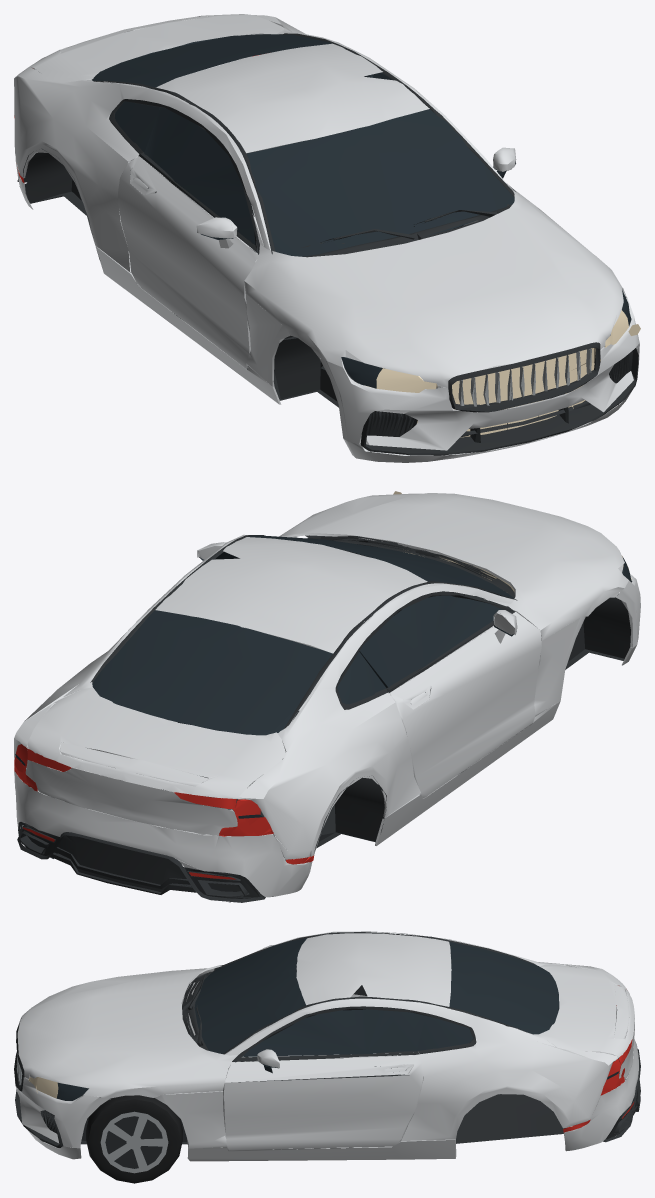
The model's file is sedan.glb.
The picture shows the model from 3 angles, top to bottom: view 1: azimuth 30°, elevation 25°; view 2: azimuth 150°, elevation 25°; view 3: azimuth 270°, elevation 25°; orthographic projection. The views are drawn at different scales.
Parts seen in each view (by area): view 1: Car body, Car glazing, Car trim, Car headlamps, Car wheel discs; view 2: Car body, Car glazing, Car trim, Car tail lamps; view 3: Car body, Car glazing, Car trim, Wheel tyre, Wheel rim, Wheel well, Car tail lamps, Car headlamps.
Boxes of the visible parts, <box> form: Car body: <box>14,14,639,462</box>; Car glazing: <box>92,34,631,435</box>; Car trim: <box>17,33,638,455</box>; Car headlamps: <box>366,310,640,437</box>; Car wheel discs: <box>458,334,610,406</box>; Car body: <box>14,493,640,897</box>; Car glazing: <box>15,535,632,818</box>; Car trim: <box>17,535,630,902</box>; Car tail lamps: <box>14,744,314,879</box>; Car body: <box>15,931,638,1161</box>; Car glazing: <box>56,938,618,1100</box>; Car trim: <box>14,932,640,1148</box>; Wheel tyre: <box>86,1095,182,1183</box>; Wheel rim: <box>100,1111,168,1173</box>; Wheel well: <box>103,1111,165,1168</box>; Car tail lamps: <box>563,985,634,1132</box>; Car headlamps: <box>28,1077,58,1098</box>.
Bounding box in the file's own units: 2.04 × 1.4 × 4.59.
